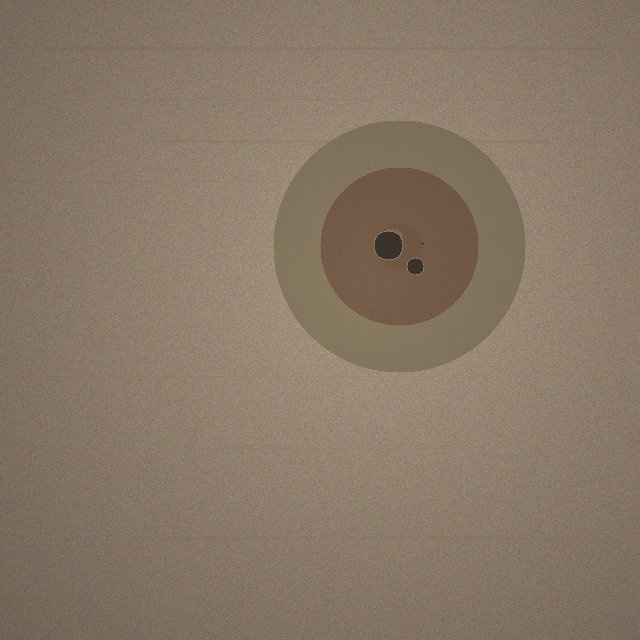shrinkage: (273, 120, 525, 372)
